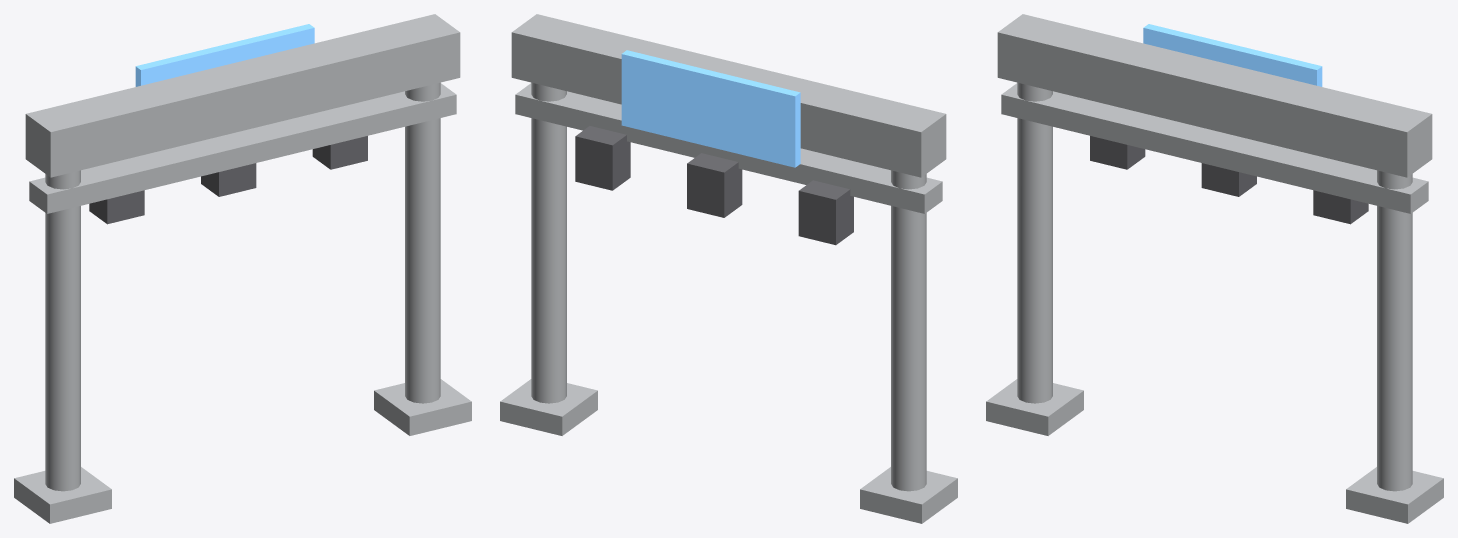
Rendered from prop-gantry.glb.
3 renders of one model, left to right at view 1: azimuth 30°, elevation 25°; view 2: azimuth 150°, elevation 25°; view 3: azimuth 330°, elevation 25°, orthographic.
Parts seen in each view (by area): view 1: gantry_beam, gantry_beam_low, gantry_post, gantry_post.001, gantry_sign, gantry_foot.001, gantry_foot, gantry_camera.001, gantry_camera, gantry_camera.002; view 2: gantry_beam, gantry_sign, gantry_post, gantry_post.001, gantry_beam_low, gantry_foot.001, gantry_foot, gantry_camera, gantry_camera.002, gantry_camera.001; view 3: gantry_beam, gantry_beam_low, gantry_post.001, gantry_post, gantry_sign, gantry_foot, gantry_foot.001, gantry_camera.001, gantry_camera.002, gantry_camera.
Boxes of the visible parts, x1,y1,x2,y2 form: gantry_beam: (25, 14, 460, 177); gantry_beam_low: (29, 83, 456, 213); gantry_post: (45, 170, 80, 491); gantry_post.001: (405, 82, 440, 403); gantry_sign: (135, 24, 314, 86); gantry_foot.001: (374, 379, 471, 435); gantry_foot: (14, 467, 111, 523); gantry_camera.001: (201, 163, 256, 196); gantry_camera: (89, 190, 144, 224); gantry_camera.002: (312, 136, 367, 169); gantry_beam: (511, 14, 946, 177); gantry_sign: (621, 50, 800, 167); gantry_post: (891, 170, 926, 491); gantry_post.001: (531, 82, 566, 403); gantry_beam_low: (515, 83, 942, 213); gantry_foot.001: (500, 379, 597, 435); gantry_foot: (860, 467, 957, 523); gantry_camera: (798, 180, 853, 245); gantry_camera.002: (575, 126, 630, 190); gantry_camera.001: (687, 153, 742, 217); gantry_beam: (997, 14, 1432, 177); gantry_beam_low: (1001, 83, 1428, 213); gantry_post.001: (1377, 170, 1412, 491); gantry_post: (1017, 82, 1052, 403); gantry_sign: (1143, 24, 1322, 86); gantry_foot: (986, 379, 1083, 435); gantry_foot.001: (1346, 467, 1443, 523); gantry_camera.001: (1201, 163, 1256, 196); gantry_camera.002: (1313, 190, 1368, 224); gantry_camera: (1090, 136, 1145, 169).
Bounding box in the file's own units: 1.36 × 1.23 × 0.23.
